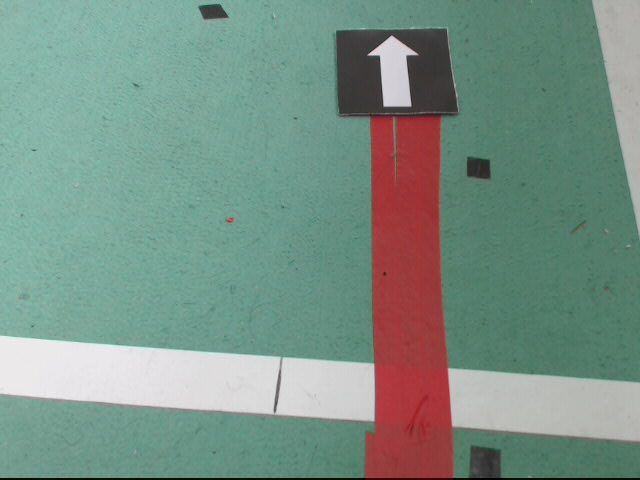straight: (335, 26, 458, 114)
